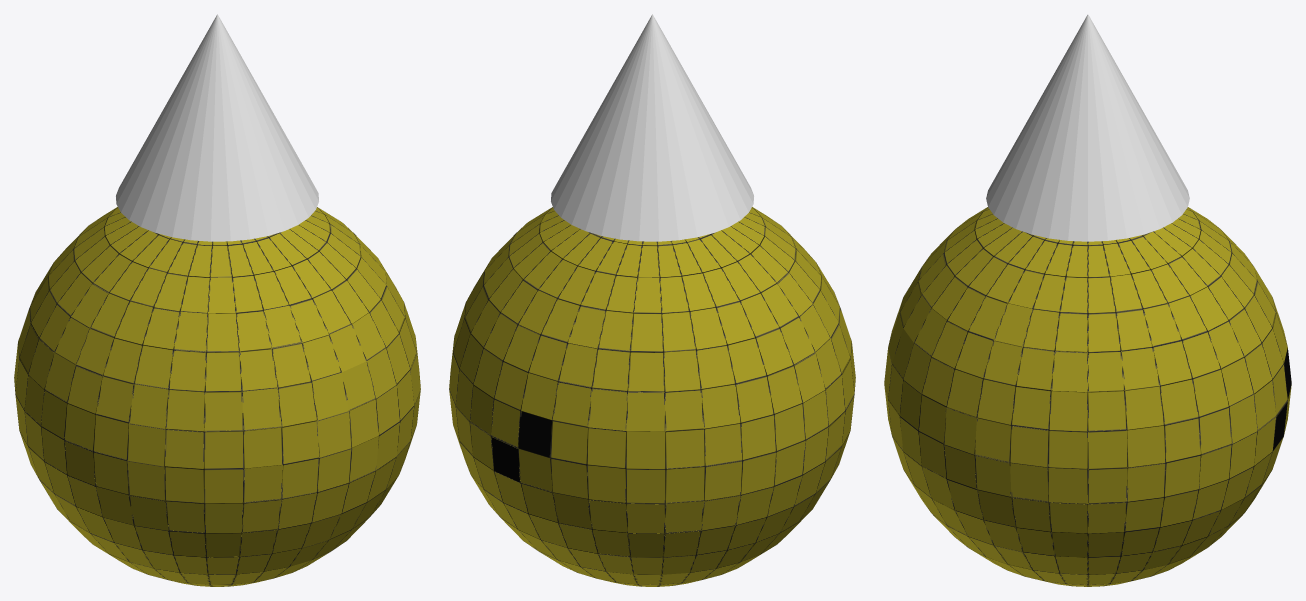
The model's file is enemy001.fbx.
The picture shows the model from 3 angles, left to right: view 1: azimuth 30°, elevation 25°; view 2: azimuth 150°, elevation 25°; view 3: azimuth 270°, elevation 25°; orthographic projection.
Visible parts, largest first — view 1: Sphere, Cone; view 2: Sphere, Cone; view 3: Sphere, Cone.
Boxes of the visible parts, x1,y1,x2,y2 form: Sphere: (14,207,420,586); Cone: (116,14,318,241); Sphere: (449,207,855,586); Cone: (551,14,753,241); Sphere: (884,207,1291,586); Cone: (986,14,1189,241).
Size of the model in its own units: 200 by 300 by 200.
